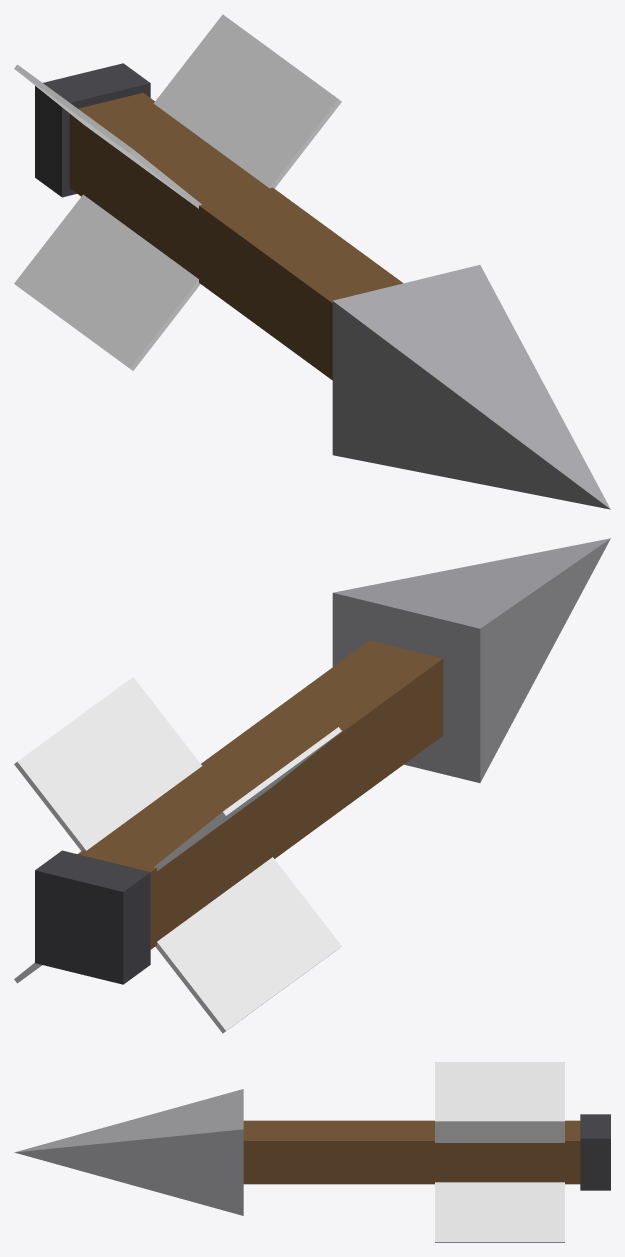
Rendered from arrow.glb.
3 renders of one model, top to bottom at view 1: azimuth 30°, elevation 25°; view 2: azimuth 150°, elevation 25°; view 3: azimuth 270°, elevation 25°, orthographic. The views are drawn at different scales.
Parts seen in each view (by area): view 1: arrow; view 2: arrow; view 3: arrow.
Part boxes in pixels (x1,y1,x2,y2): arrow: [14, 14, 610, 509]; arrow: [14, 538, 610, 1033]; arrow: [14, 1062, 610, 1242].
Size of the model in its own units: 0.1796 by 0.1796 by 0.78.
Materials: 1 (1 with a texture image).
